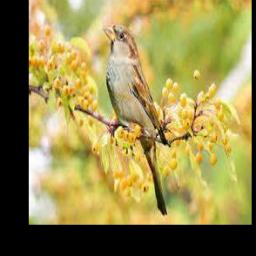Sparrow: (104, 23, 167, 216)
